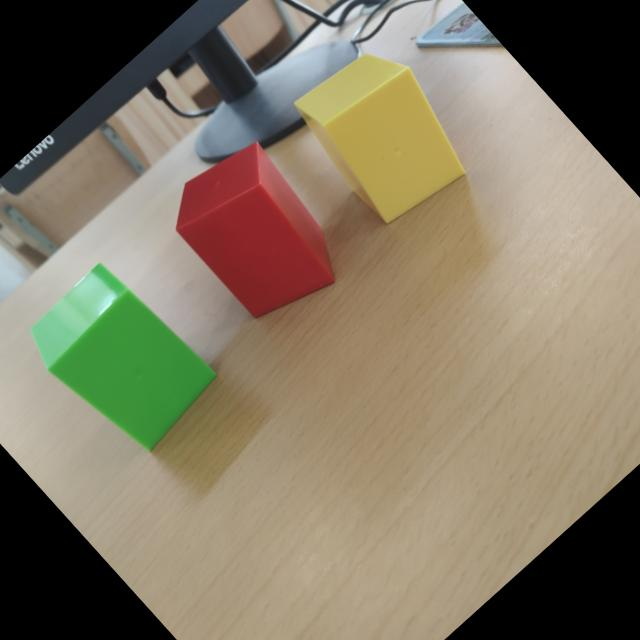green: (31, 263, 217, 451)
red: (175, 142, 336, 319)
yellow: (296, 53, 466, 223)
